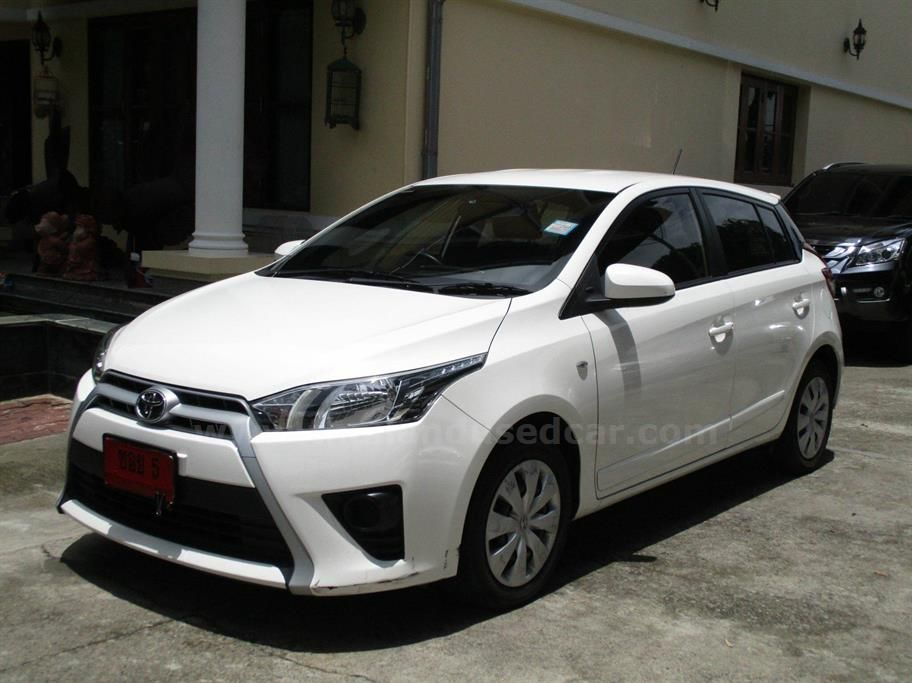sedan: (57, 162, 849, 609)
